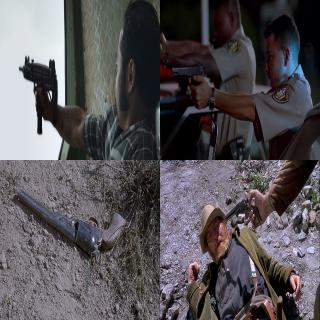gun: (16, 185, 131, 278), (15, 52, 61, 136), (168, 55, 208, 107), (222, 196, 262, 236)
